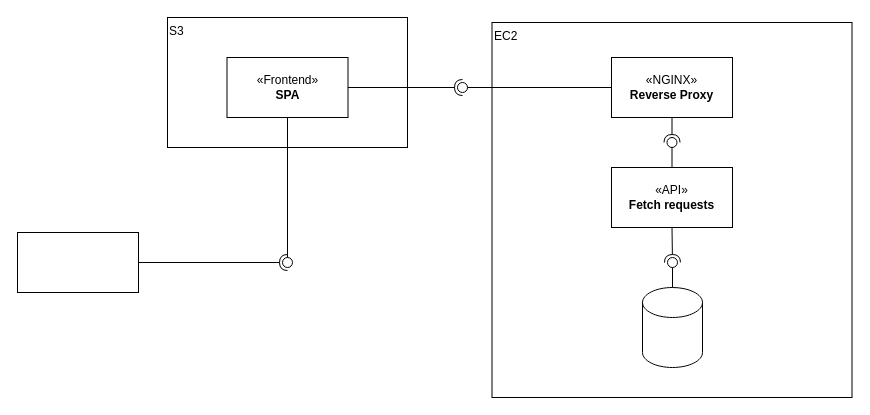
The diagram is 870 pixels wide and 415 high, and some of its shapes have lost their labels. The centre of each missing label's shape, as x and y in pixels:
MongoDB: [672,327]
«CloudFront» CDN: [77,262]
